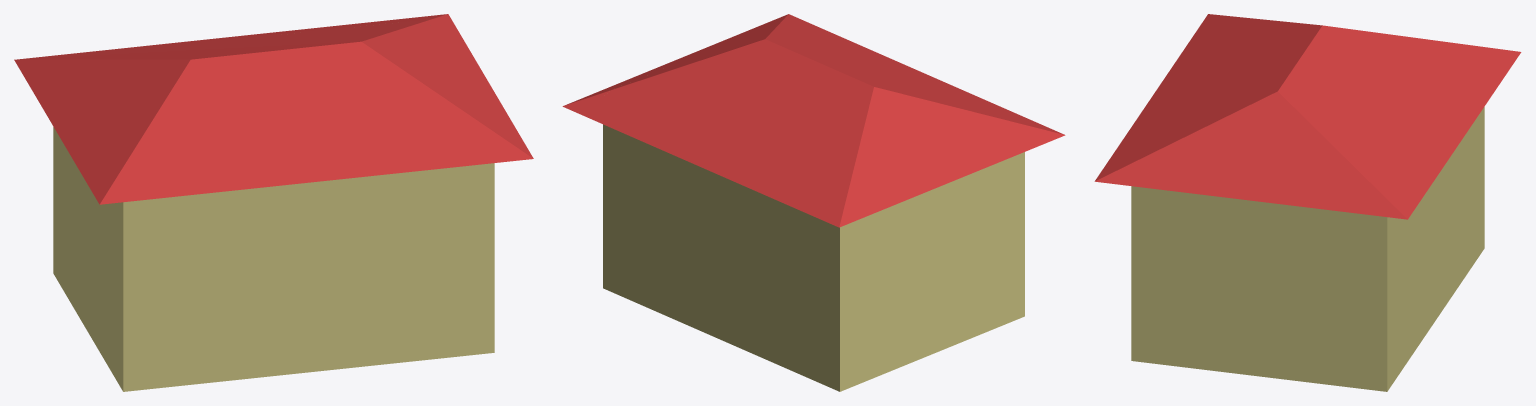
The picture shows the model from 3 angles, left to right: view 1: azimuth 30°, elevation 25°; view 2: azimuth 150°, elevation 25°; view 3: azimuth 270°, elevation 25°; orthographic projection. The views are drawn at different scales.
Visible parts, largest first — view 1: group_5, group_3, group_4; view 2: group_5, group_3, group_4; view 3: group_5, group_3, group_4.
Boxes of the visible parts, left/top/right/bottom form: group_5: left=53, top=127, right=494, bottom=391; group_3: left=14, top=19, right=533, bottom=204; group_4: left=20, top=14, right=532, bottom=203; group_5: left=603, top=124, right=1024, bottom=391; group_3: left=603, top=14, right=1064, bottom=227; group_4: left=562, top=16, right=1065, bottom=226; group_5: left=1131, top=107, right=1484, bottom=391; group_3: left=1094, top=14, right=1520, bottom=193; group_4: left=1096, top=14, right=1520, bottom=219.
Size of the model in its own units: 16.24 by 14.26 by 9.04.
